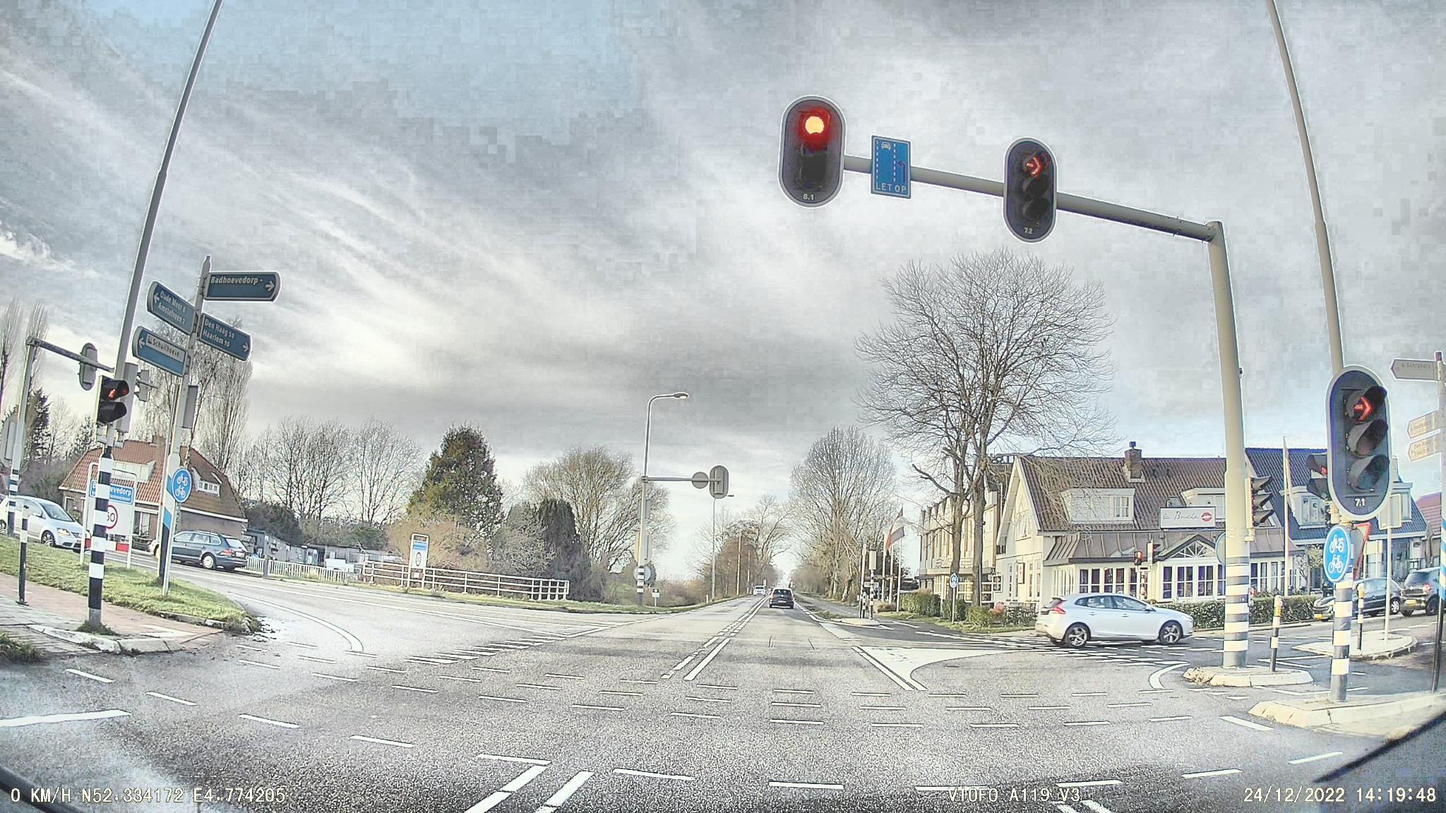Roads: (0, 571, 1376, 813)
